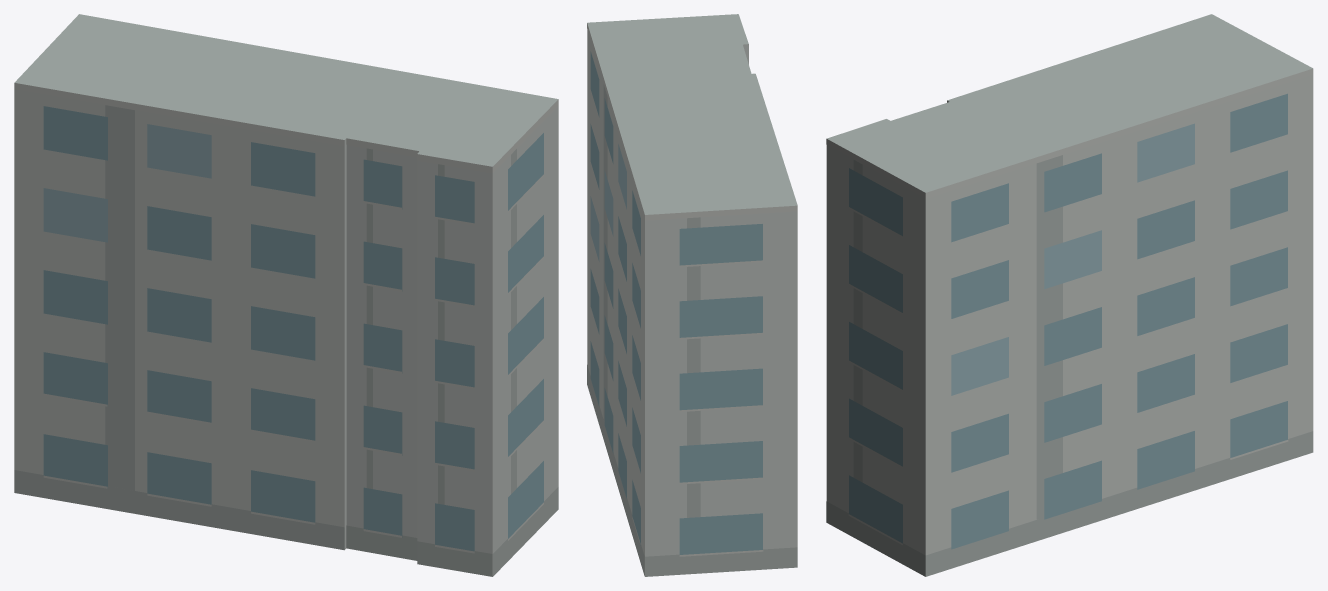
Rendered from survey-upis-32543377.glb.
The picture shows the model from 3 angles, left to right: view 1: azimuth 30°, elevation 25°; view 2: azimuth 150°, elevation 25°; view 3: azimuth 270°, elevation 25°; orthographic projection. The views are drawn at different scales.
Visible parts, largest first — view 1: survey-upis-32543377.tmp; view 2: survey-upis-32543377.tmp; view 3: survey-upis-32543377.tmp.
Boxes of the visible parts, box(x1,y1,x2,y2) form: survey-upis-32543377.tmp: box(14, 14, 558, 576); survey-upis-32543377.tmp: box(587, 14, 797, 576); survey-upis-32543377.tmp: box(826, 14, 1313, 576).
Size of the model in its own units: 15.24 by 15.25 by 17.53.
